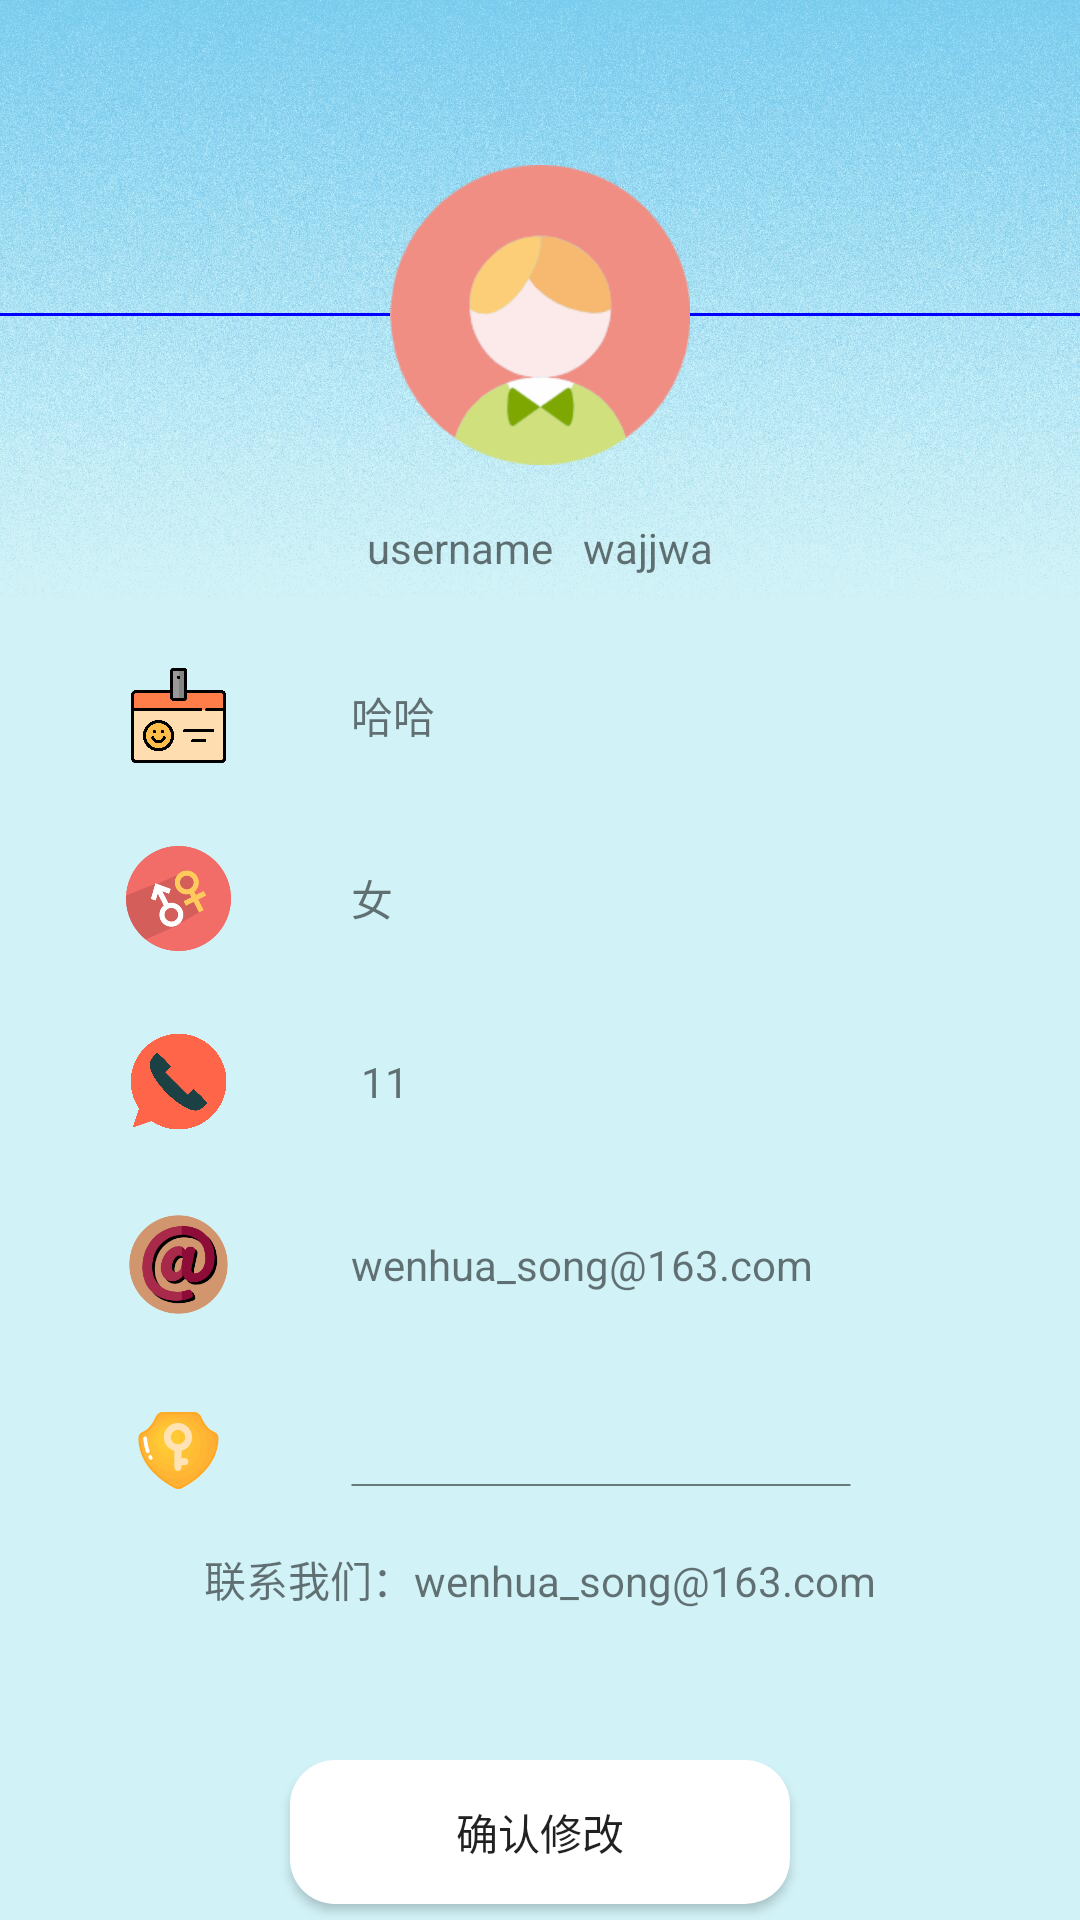

Where to tap for icons on this 1080x1920 app screen, as (x=x, y=y):
email: (x=178, y=1264)
gender: (x=178, y=898)
idcard: (x=178, y=715)
password: (x=178, y=1450)
phone: (x=178, y=1081)
